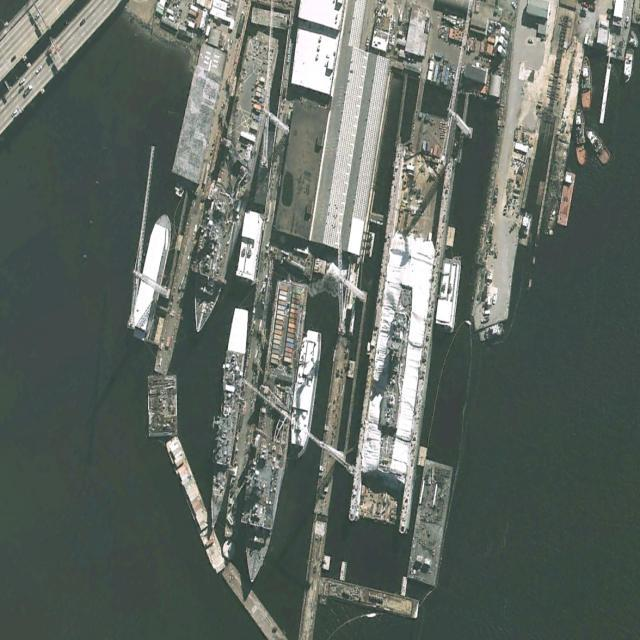Landing: (182, 25, 281, 341), (235, 278, 307, 587)
Other Ship: (129, 209, 176, 340), (287, 327, 323, 460)
Other Warship: (203, 305, 251, 533)
